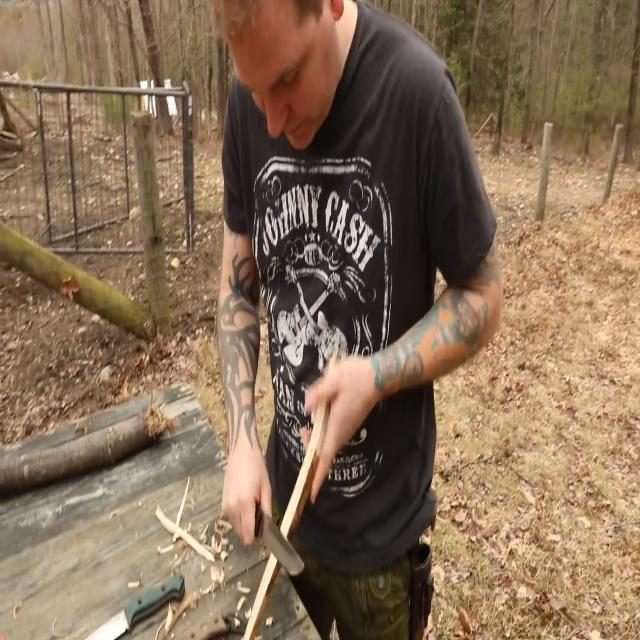knife: (78, 574, 190, 640), (257, 499, 315, 581)
